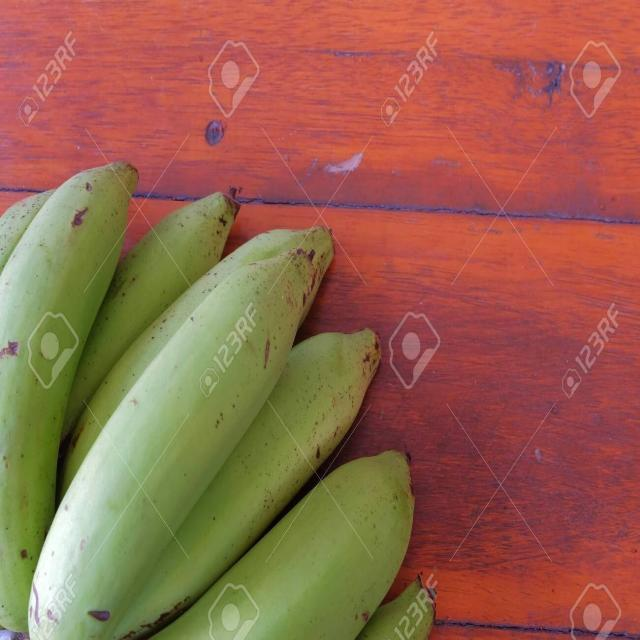banana: (0, 149, 446, 640)
